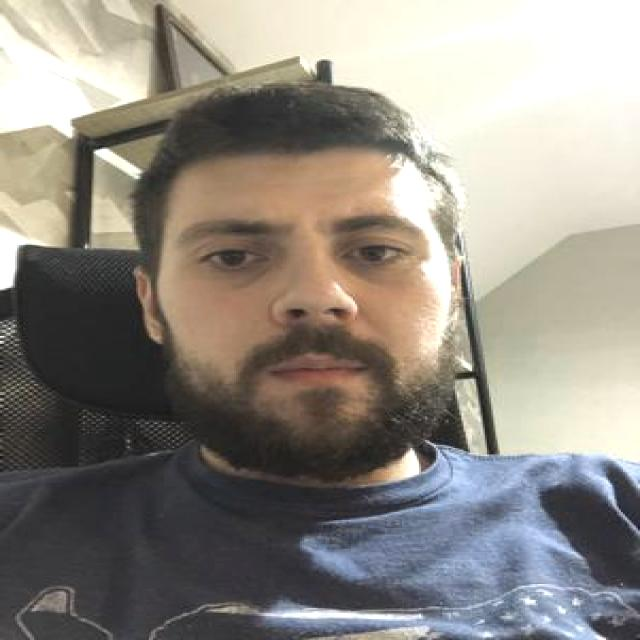face_nomask: (149, 208, 461, 453)
head_nohelmet: (140, 85, 483, 211)
person: (19, 54, 640, 640)
